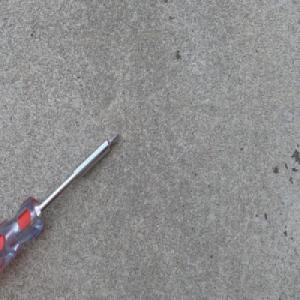Screwdriver: (0, 127, 120, 268)
